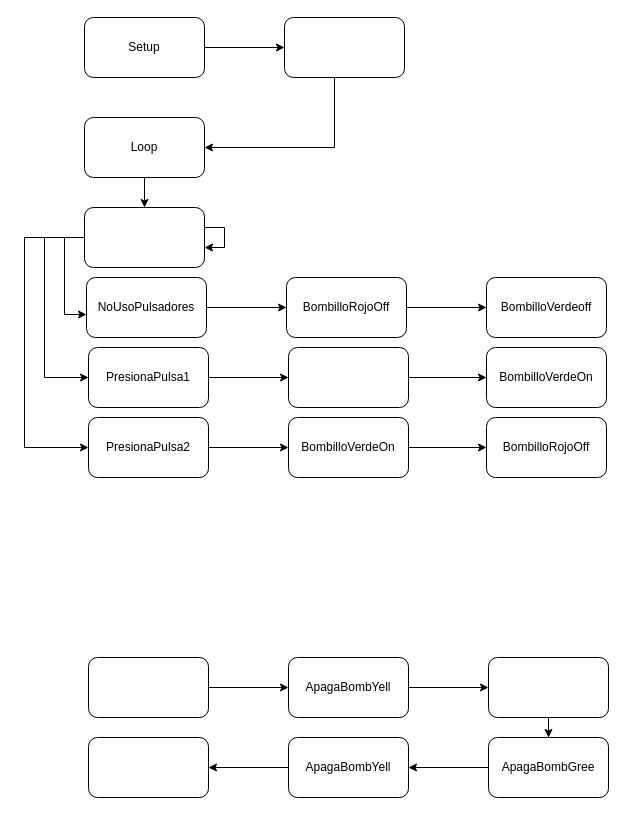
This 626x815 diagram has some shape labels left out. The shapes that lost their labels are listed below. From the top down, each one's centre as x and y in pixels, then its label:
At (344,47): "Configura 2 leds 2 Pulsar".
At (144,237): "Condiciones".
At (348,377): "BombilloRojoOn".
At (148,687): "ApagaBombRed".
At (548,687): "EnciendeBombGree".
At (148,767): "EnciendeBombRed".
